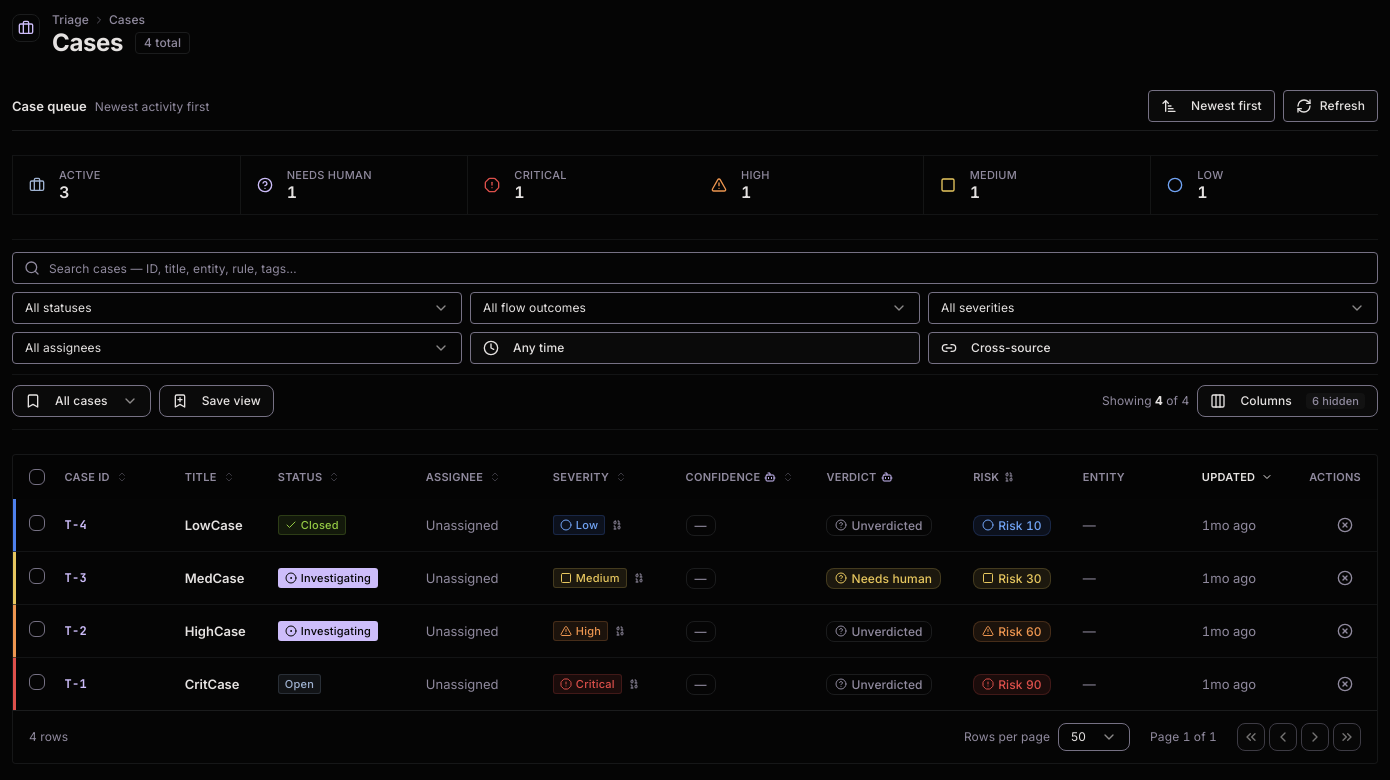
Test case: Cases — summary strip › a severity tile toggles the severity filter, narrowing then restoring the list
Expected: the text "CritCase" is shown, [185, 675, 246, 693]
Click the button with test id "cases-summary-critical" at (581, 185), box [467, 156, 695, 214]
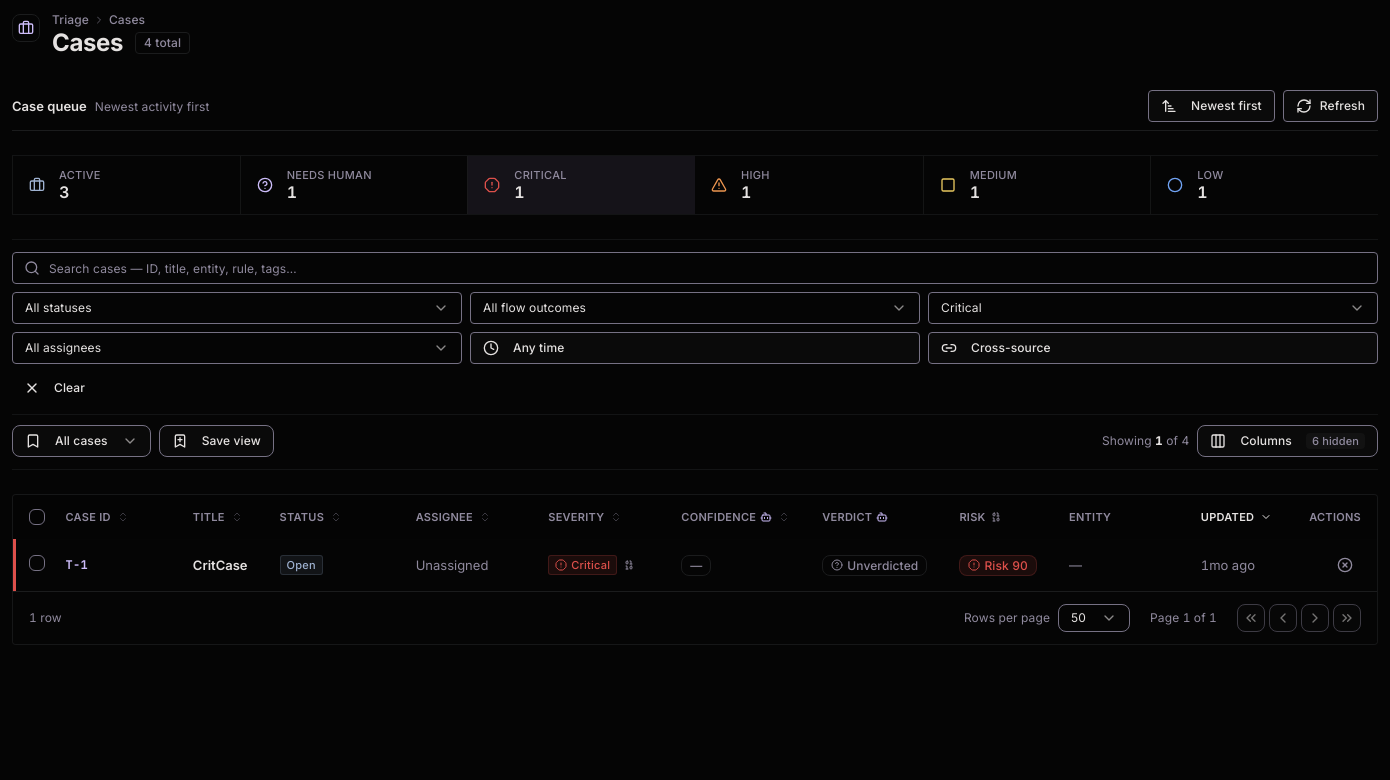
Result: the text "HighCase" is gone
Result: the text "MedCase" is gone
Result: the text "LowCase" is gone
Note: Click again → the filter clears and every case comes back.
Click the button with test id "cases-summary-critical" at (581, 185), box [467, 156, 695, 214]
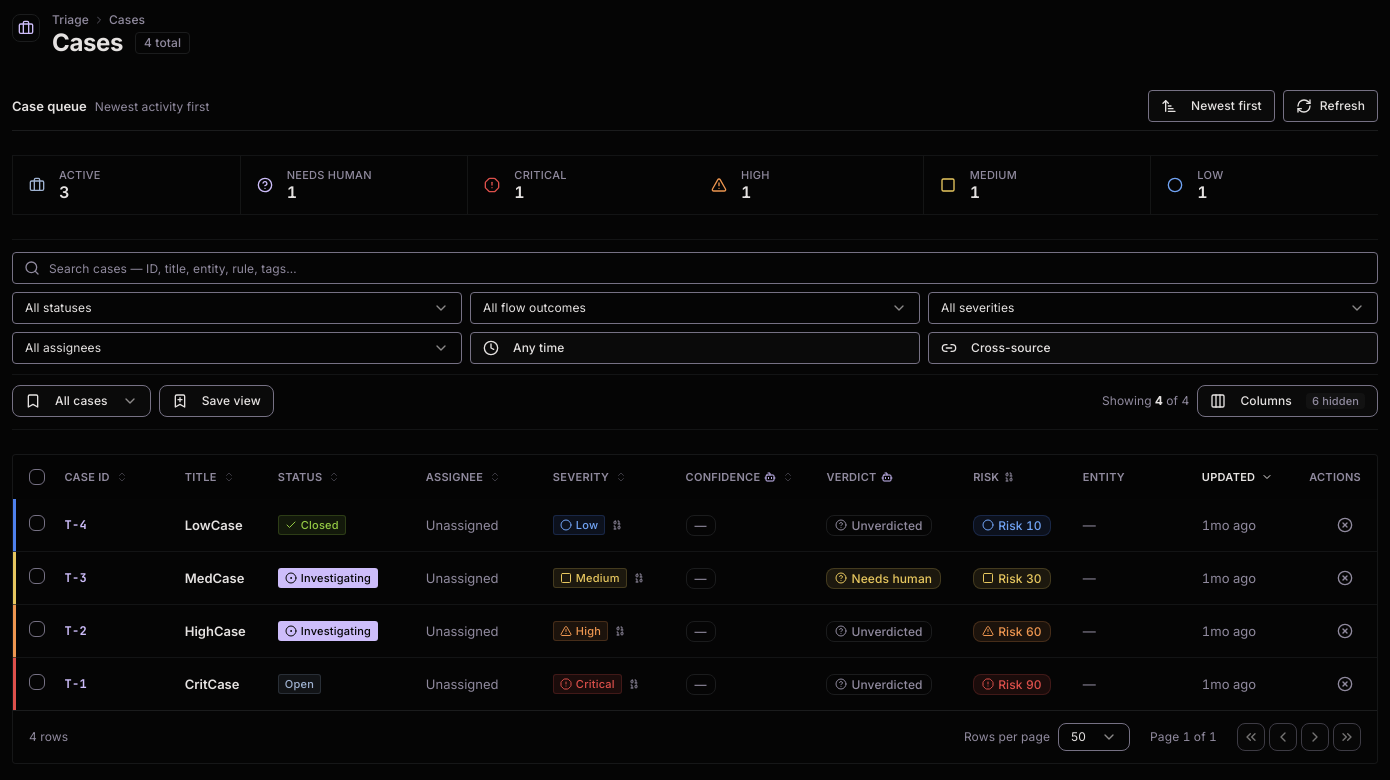
Result: the text "HighCase" is shown at [185, 622, 246, 640]
Result: the text "LowCase" is shown at [185, 516, 246, 534]
